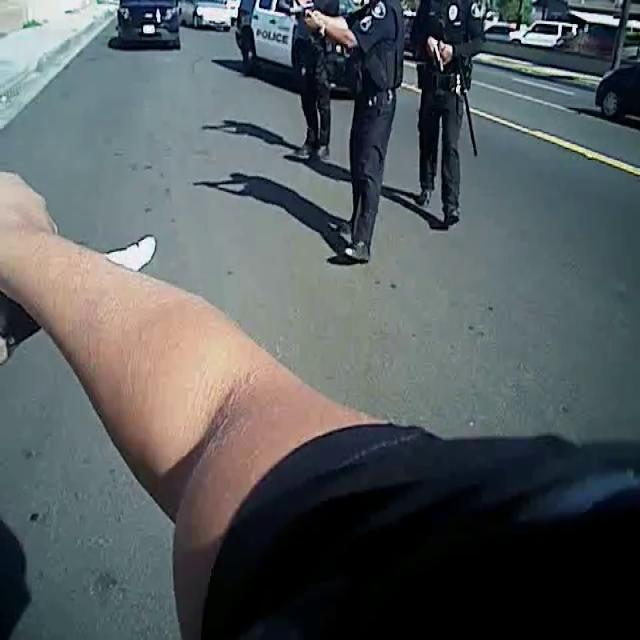gun: (423, 29, 458, 81), (279, 1, 315, 34)
